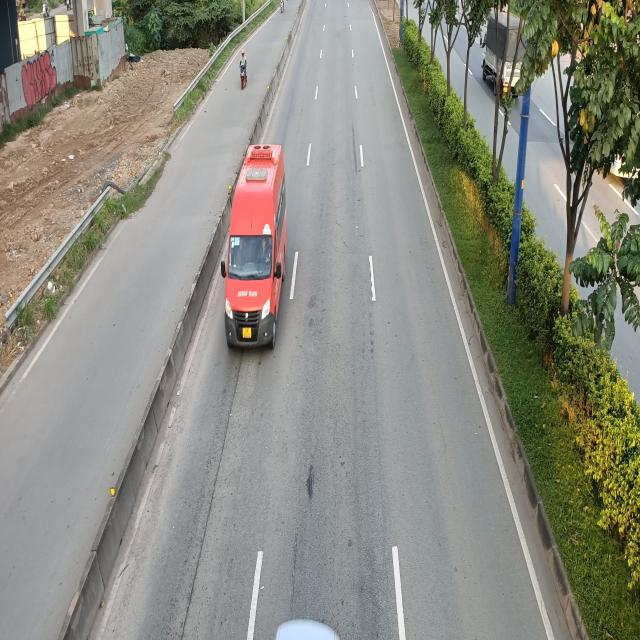van: (222, 144, 291, 352)
